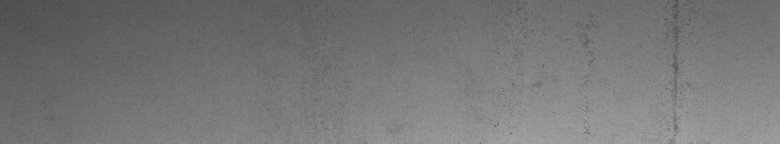ib: (491, 4, 595, 136)
